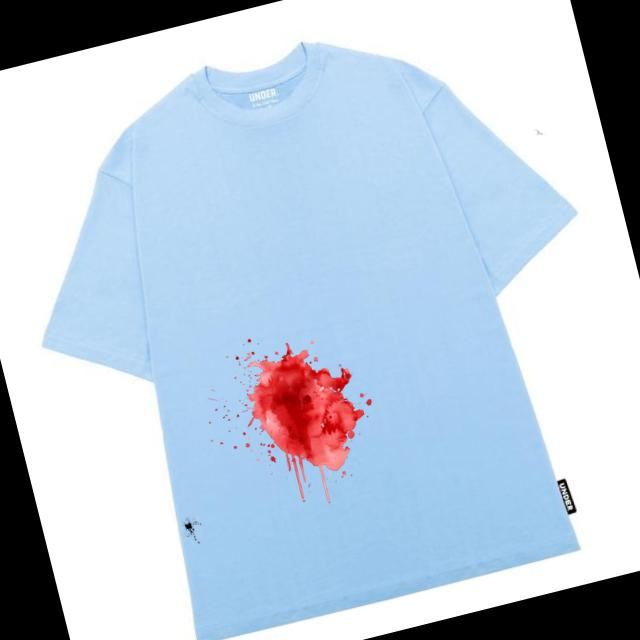stain: (216, 314, 379, 499), (172, 510, 215, 552)
